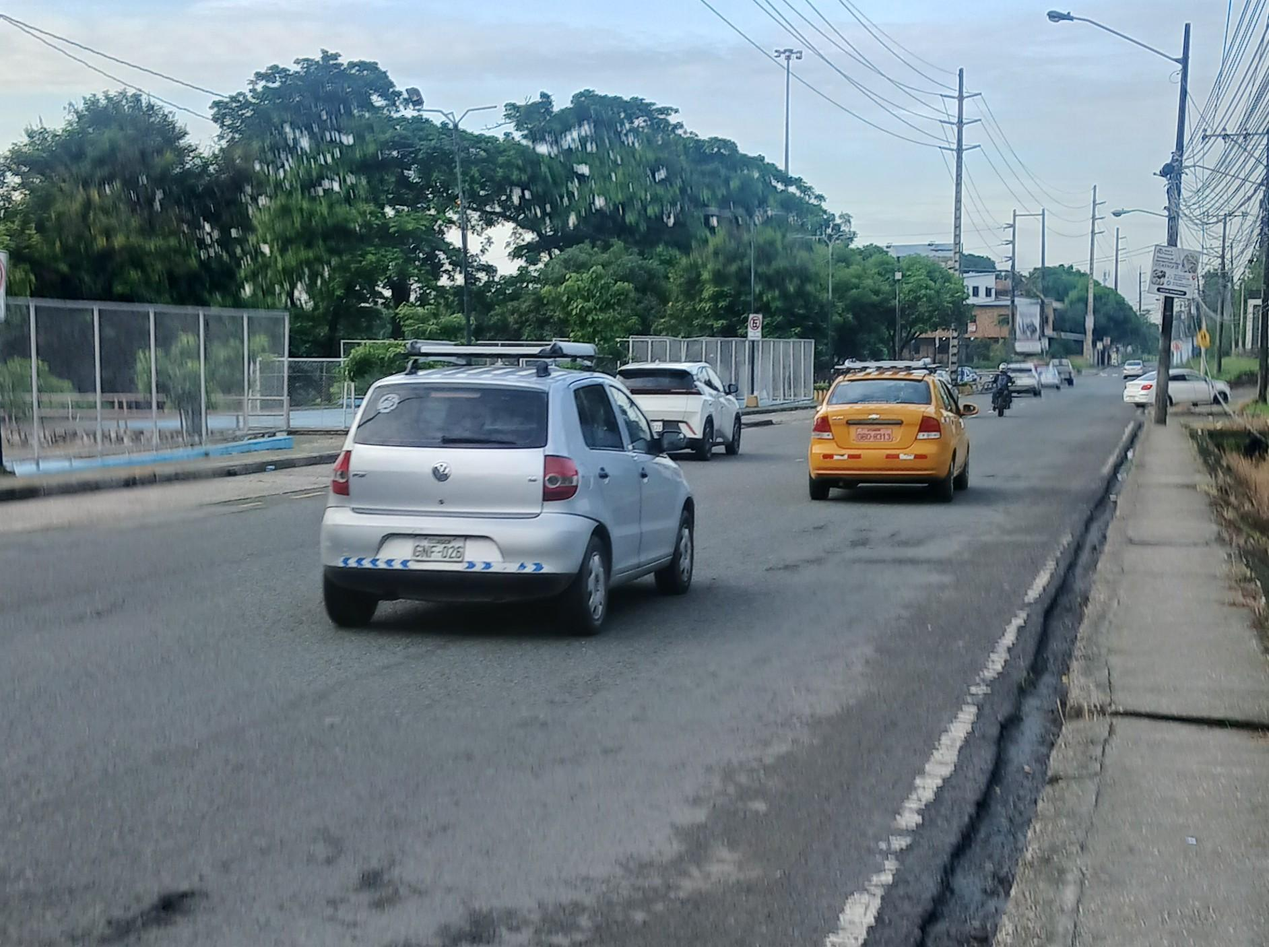license_plate: (412, 537, 465, 562), (854, 427, 893, 443)
